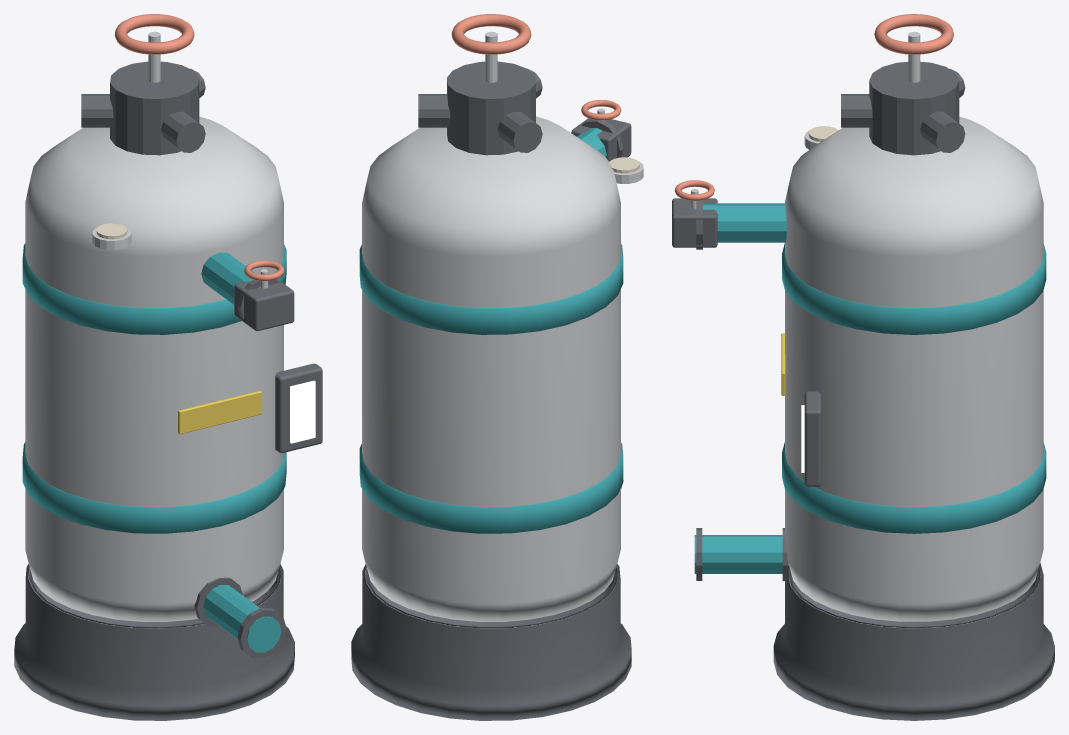
The model's file is public-aquarium-and-marine-centre-filtration-tower-c2141d5b__34175.glb.
3 views of the same model, side by side, from view 1: azimuth 30°, elevation 25°; view 2: azimuth 150°, elevation 25°; view 3: azimuth 270°, elevation 25° (orthographic).
Parts seen in each view (by area): view 1: filtration-tower; view 2: filtration-tower; view 3: filtration-tower.
Part boxes in pixels (x1,y1,x2,y2): filtration-tower: [14, 14, 322, 720]; filtration-tower: [351, 14, 643, 720]; filtration-tower: [672, 14, 1054, 720].
Size of the model in its own units: 1 by 2.48 by 1.36.
